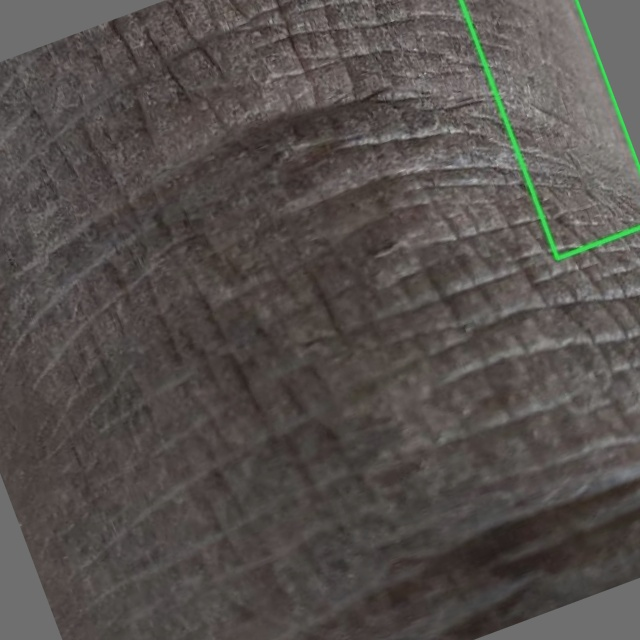Eczema: (461, 0, 639, 258)
